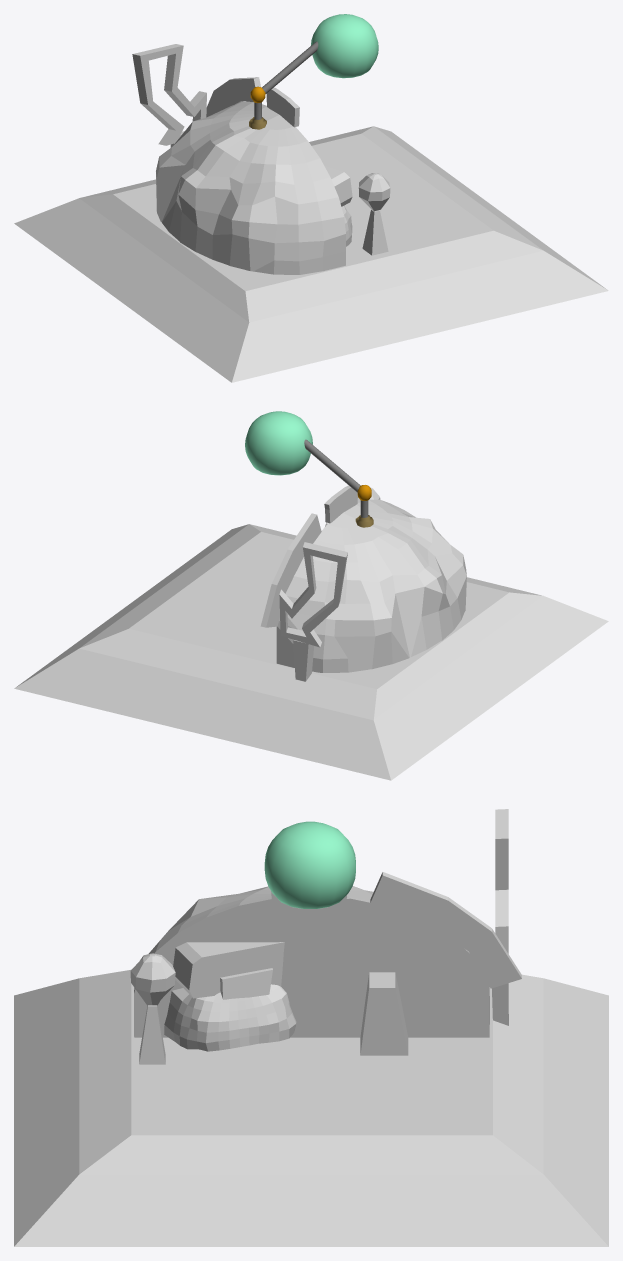
File: Colliders.fbx
3 renders of one model, top to bottom at view 1: azimuth 30°, elevation 25°; view 2: azimuth 150°, elevation 25°; view 3: azimuth 270°, elevation 25°, orthographic. The views are drawn at different scales.
Parts seen in each view (by area): view 1: Collider_floor_collider_mesh_convex_nomesh, Collider_House_collider_mesh_nomesh, Collider_Lamp_collider_mesh_convex_nomesh_002, Collider_arrow_collider_mesh_nomesh, Collider_STATION_collider_mesh_convex_nomesh.002, Collider_Indic_collider_mesh_convex_nomesh_001, Collider_Indic_collider_mesh_convex_nomesh_002, Collider_GAS_colliden_mesh_convex_nomesh.001, Collider_Pumpist_collider_mesh_convex_nomesh_001, Collider_Lamp_collider_mesh_convex_nomesh_001; view 2: Collider_floor_collider_mesh_convex_nomesh, Collider_House_collider_mesh_nomesh, Collider_arrow_collider_mesh_nomesh, Collider_Lamp_collider_mesh_convex_nomesh_002, Collider_STATION_collider_mesh_convex_nomesh.002, Collider_GAS_colliden_mesh_convex_nomesh.001, Collider_Lamp_collider_mesh_convex_nomesh_001; view 3: Collider_floor_collider_mesh_convex_nomesh, Collider_House_collider_mesh_nomesh, Collider_Lamp_collider_mesh_convex_nomesh_002, Collider_Pumpist_collider_mesh_convex_nomesh_003, Collider_STATION_collider_mesh_convex_nomesh.002, Collider_Pumpist_collider_mesh_convex_nomesh_001, Collider_Pump_collider_mesh_convex_nomesh, Collider_arrow_collider_mesh_nomesh, Collider_Indic_collider_mesh_convex_nomesh_001, Collider_Pumpist_collider_mesh_convex_nomesh_002, Collider_Indic_collider_mesh_convex_nomesh_002.
Boxes of the visible parts, x1,y1,x2,y2 form: Collider_floor_collider_mesh_convex_nomesh: [14, 126, 608, 382]; Collider_House_collider_mesh_nomesh: [156, 101, 345, 274]; Collider_Lamp_collider_mesh_convex_nomesh_002: [311, 14, 378, 78]; Collider_arrow_collider_mesh_nomesh: [132, 44, 206, 147]; Collider_STATION_collider_mesh_convex_nomesh.002: [206, 77, 263, 117]; Collider_Indic_collider_mesh_convex_nomesh_001: [358, 173, 390, 211]; Collider_Indic_collider_mesh_convex_nomesh_002: [362, 209, 388, 255]; Collider_GAS_colliden_mesh_convex_nomesh.001: [266, 87, 299, 127]; Collider_Pumpist_collider_mesh_convex_nomesh_001: [324, 166, 352, 206]; Collider_Lamp_collider_mesh_convex_nomesh_001: [262, 41, 318, 93]; Collider_floor_collider_mesh_convex_nomesh: [14, 524, 608, 780]; Collider_House_collider_mesh_nomesh: [276, 499, 466, 672]; Collider_arrow_collider_mesh_nomesh: [279, 542, 347, 681]; Collider_Lamp_collider_mesh_convex_nomesh_002: [245, 411, 312, 475]; Collider_STATION_collider_mesh_convex_nomesh.002: [260, 513, 321, 627]; Collider_GAS_colliden_mesh_convex_nomesh.001: [324, 485, 357, 523]; Collider_Lamp_collider_mesh_convex_nomesh_001: [304, 439, 360, 492]; Collider_floor_collider_mesh_convex_nomesh: [14, 970, 608, 1246]; Collider_House_collider_mesh_nomesh: [134, 886, 489, 1037]; Collider_Lamp_collider_mesh_convex_nomesh_002: [264, 821, 355, 908]; Collider_Pumpist_collider_mesh_convex_nomesh_003: [164, 984, 296, 1051]; Collider_STATION_collider_mesh_convex_nomesh.002: [370, 872, 521, 988]; Collider_Pumpist_collider_mesh_convex_nomesh_001: [173, 942, 284, 998]; Collider_Pump_collider_mesh_convex_nomesh: [360, 972, 408, 1055]; Collider_arrow_collider_mesh_nomesh: [492, 809, 508, 1025]; Collider_Indic_collider_mesh_convex_nomesh_001: [130, 953, 175, 1005]; Collider_Pumpist_collider_mesh_convex_nomesh_002: [220, 968, 272, 999]; Collider_Indic_collider_mesh_convex_nomesh_002: [139, 1005, 165, 1064].
Bounding box in the file's own units: 45.51 × 45.51 × 26.63.
